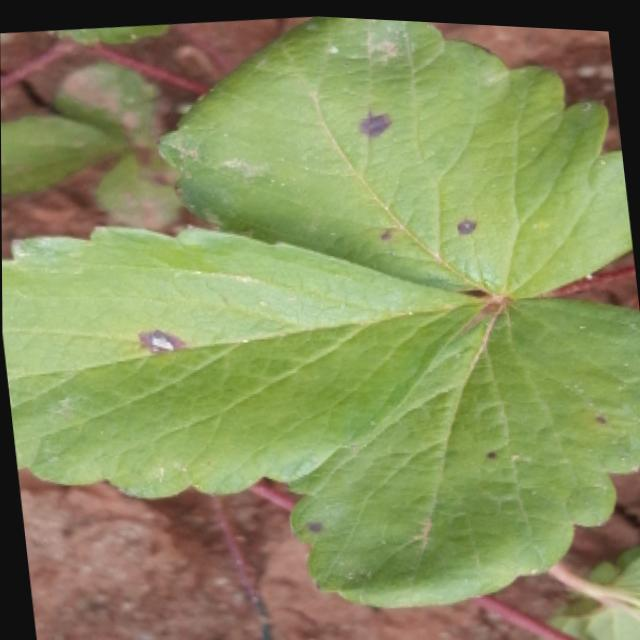Leaf Spot: (2, 220, 487, 496), (158, 13, 632, 293), (281, 289, 640, 605), (93, 143, 183, 229)
